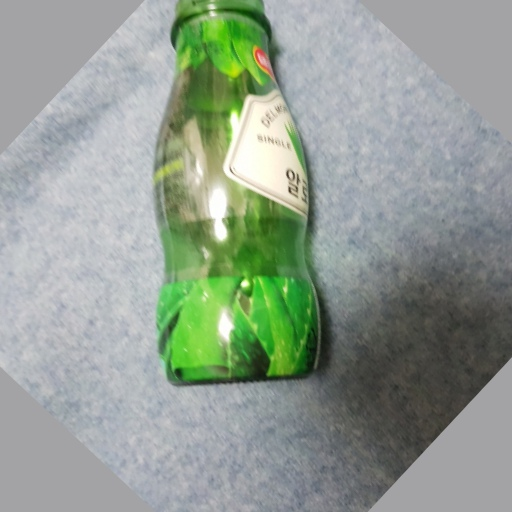Glass_4: (154, 1, 320, 384)
